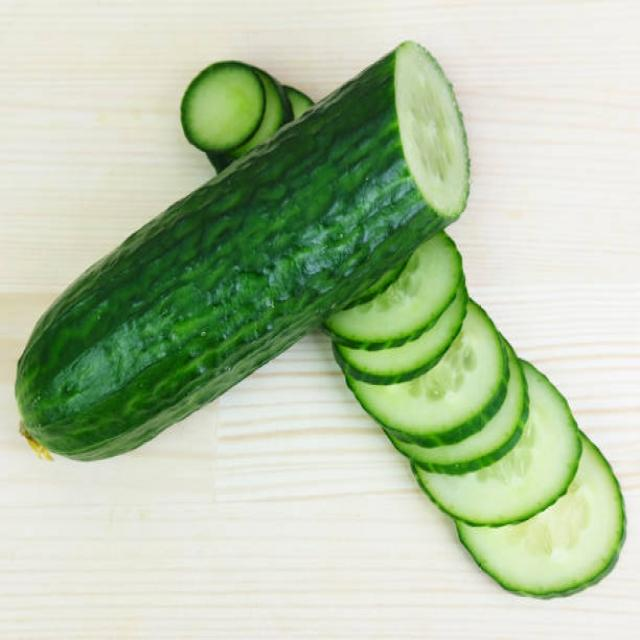cucumber: (16, 39, 470, 467)
